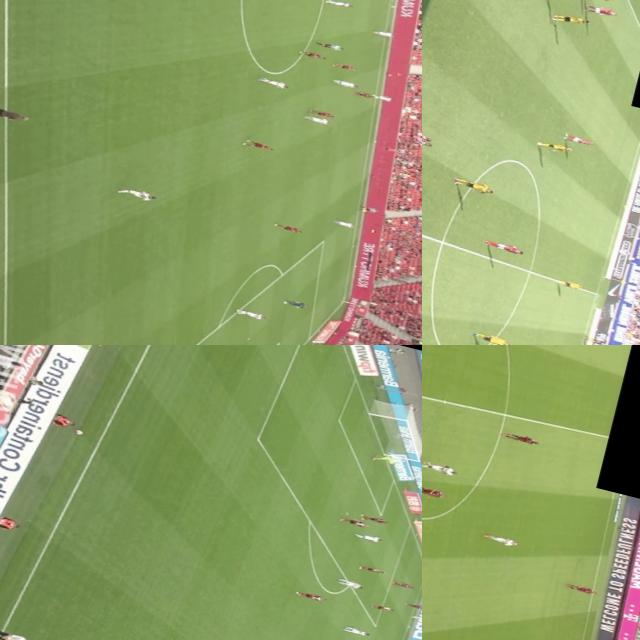ball: (282, 299, 288, 304), (405, 624, 409, 627)
player: (451, 177, 494, 195), (422, 456, 458, 477), (116, 186, 160, 203), (498, 429, 539, 446), (552, 10, 590, 28), (480, 530, 517, 548), (562, 580, 598, 598), (472, 330, 511, 345), (488, 240, 524, 256), (240, 136, 274, 152), (536, 138, 570, 154), (562, 132, 595, 148), (584, 2, 617, 18), (233, 306, 265, 321), (422, 481, 446, 501), (339, 624, 372, 638), (358, 513, 390, 527), (258, 76, 288, 90), (336, 578, 366, 592), (293, 589, 325, 602), (298, 48, 327, 62), (370, 453, 401, 466), (341, 516, 372, 529), (272, 222, 302, 235), (306, 107, 336, 120), (302, 114, 329, 128), (368, 601, 397, 614), (358, 564, 388, 576), (282, 297, 308, 310), (330, 78, 358, 90), (554, 279, 582, 291), (355, 530, 382, 542), (350, 89, 376, 101), (370, 26, 395, 38), (390, 580, 415, 592), (327, 0, 355, 10), (331, 62, 358, 72), (371, 93, 394, 103), (422, 131, 434, 150), (332, 218, 354, 228), (422, 124, 433, 142), (403, 600, 422, 610), (410, 613, 422, 624)
